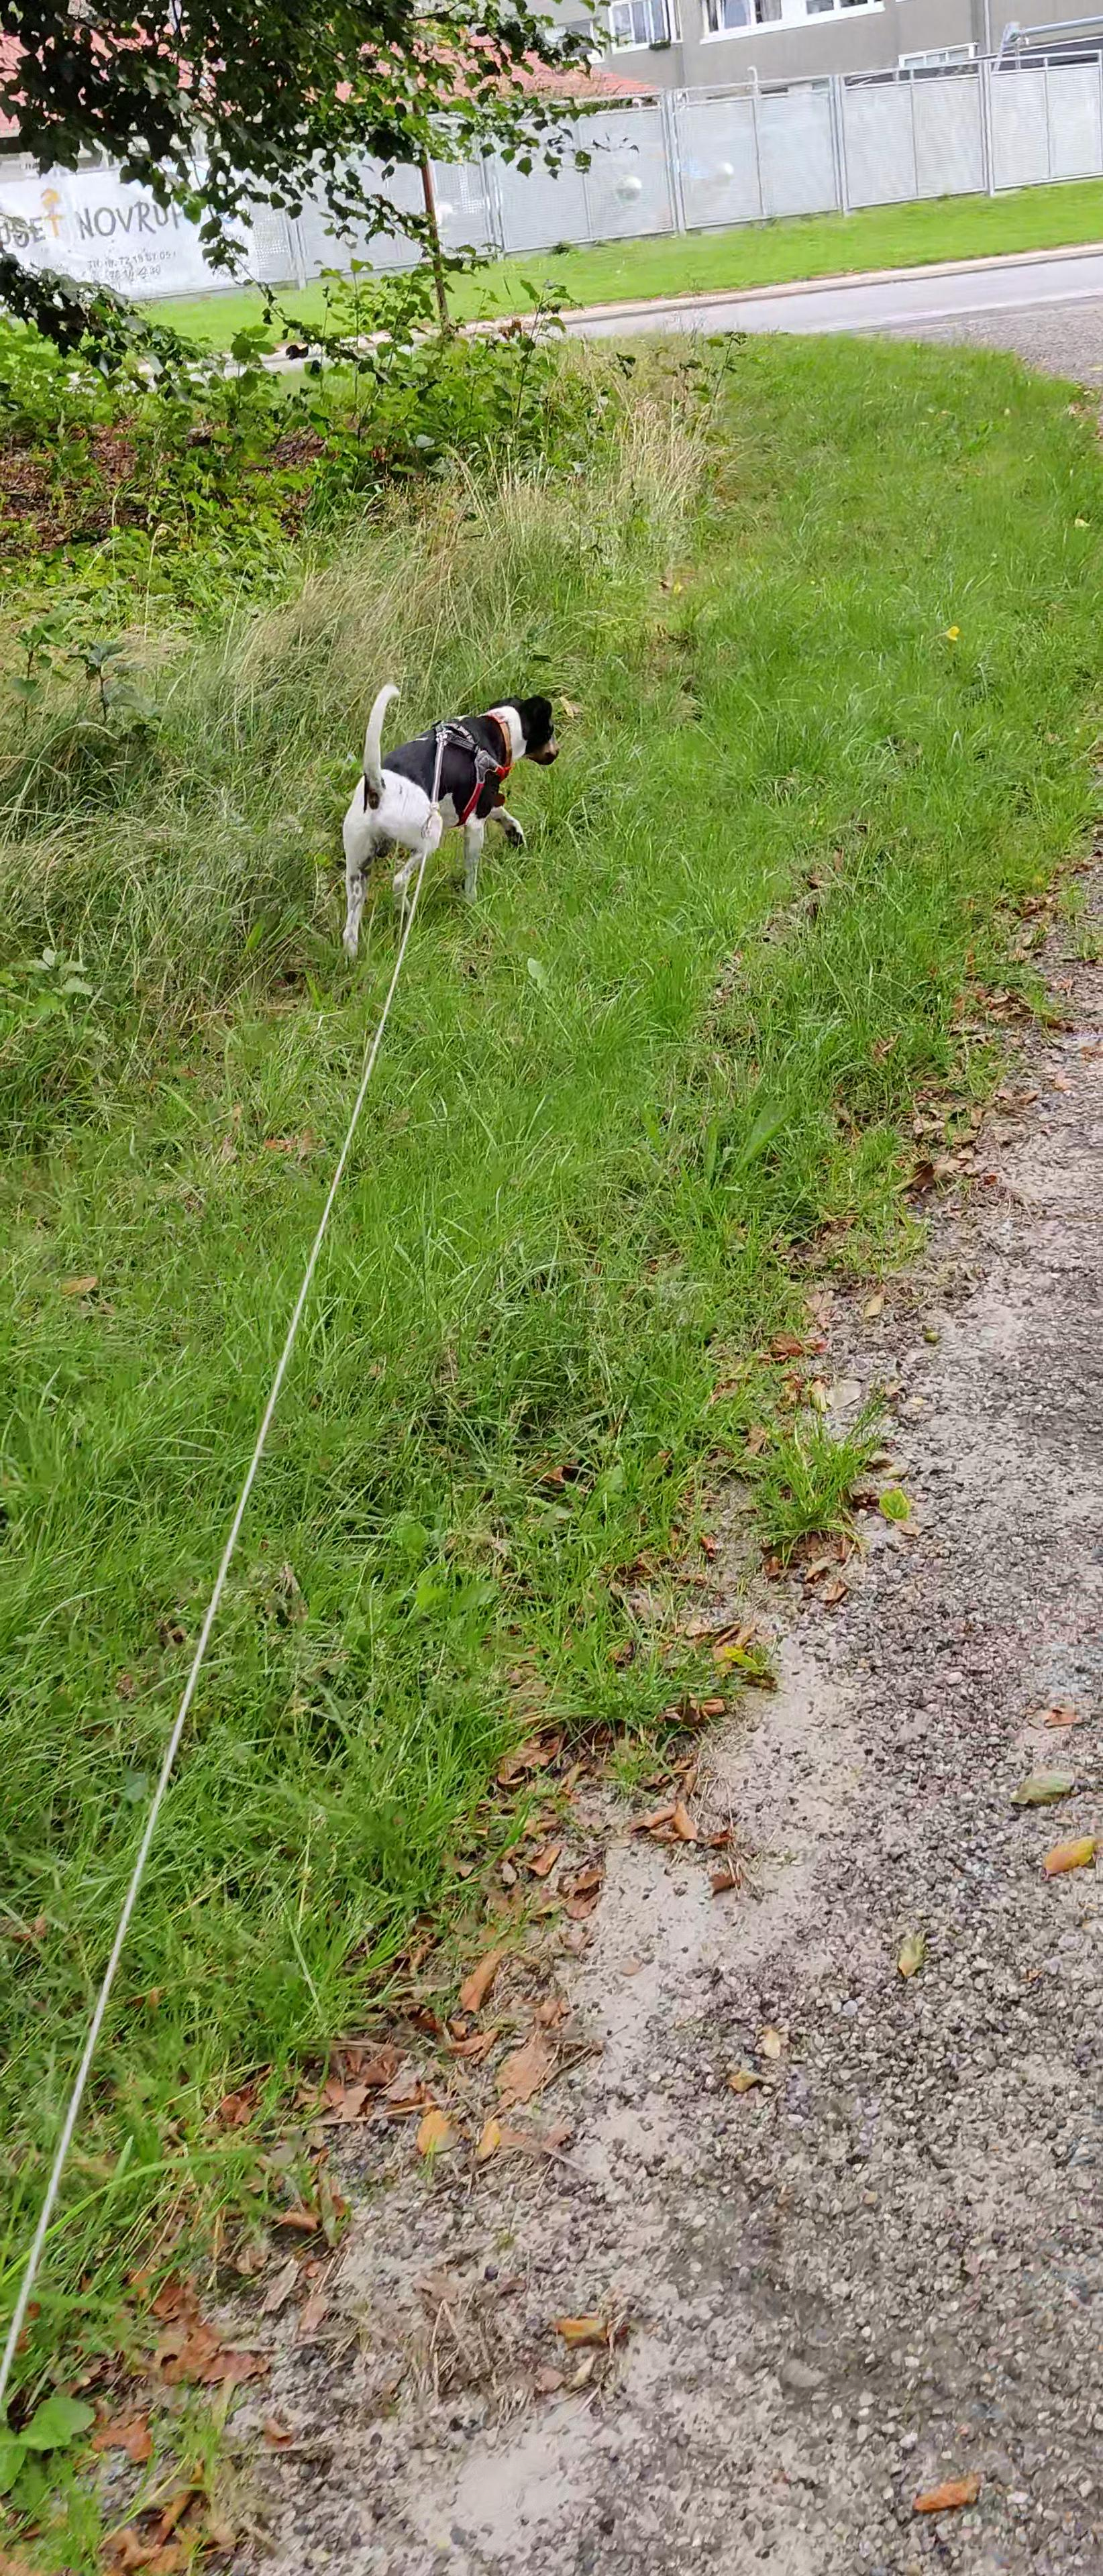Dog: (312, 678, 570, 968)
